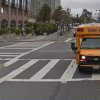crosswalk: (2, 58, 100, 81), (0, 42, 52, 58)
